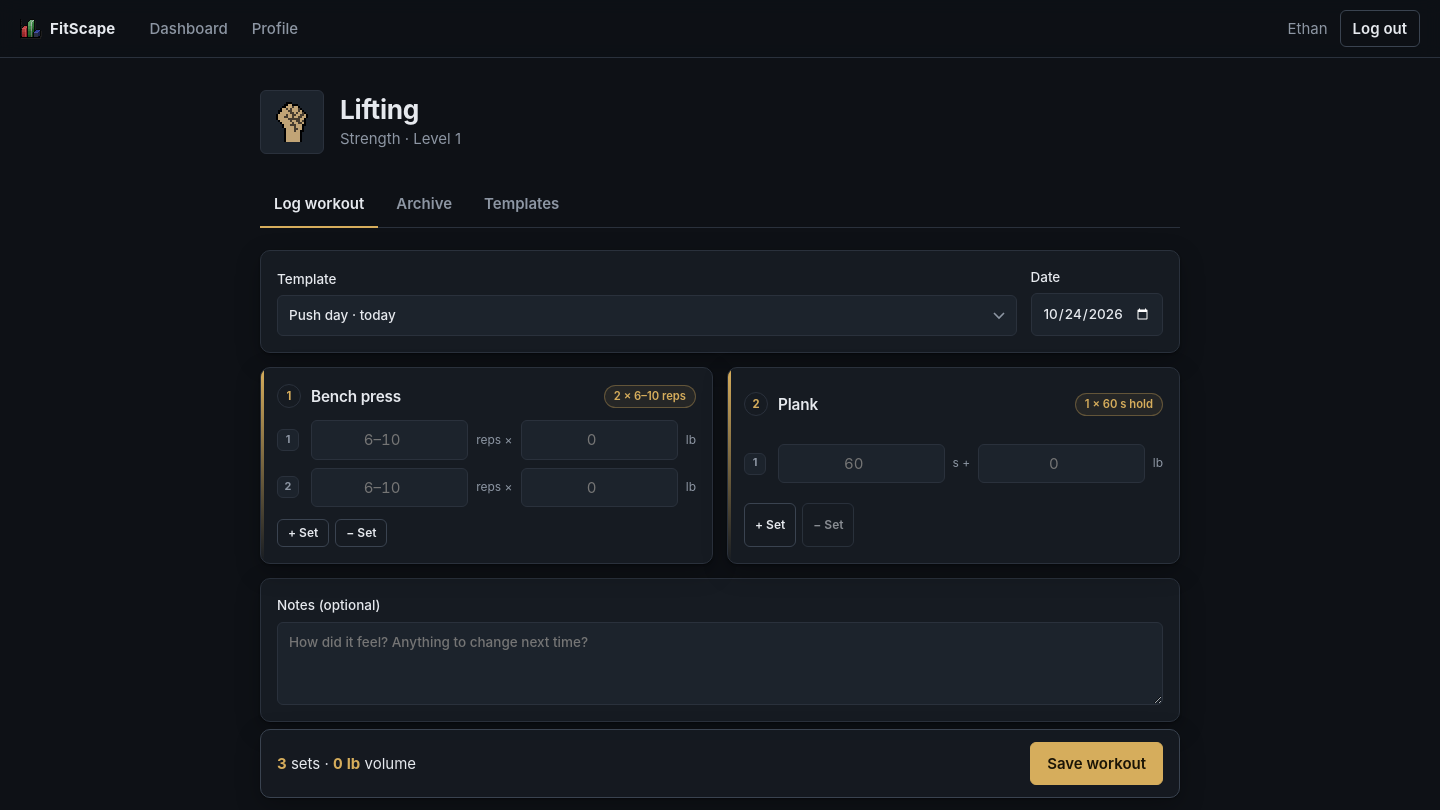
Test: Log workout › preselects today's template, tracks totals live, and saves to the archive
expect the dropdown labelled "Template" shows "Push day · today": met, box [277,295,1016,336]
expect the heading "Bench press" is shown: met, box [311,387,401,406]
Type "10" into the number field named "Bench press set 1 reps" at (390, 440), box [311,420,468,460]
Type "135" into the number field named "Bench press set 1 weight in pounds" at (599, 440), box [520,420,678,460]
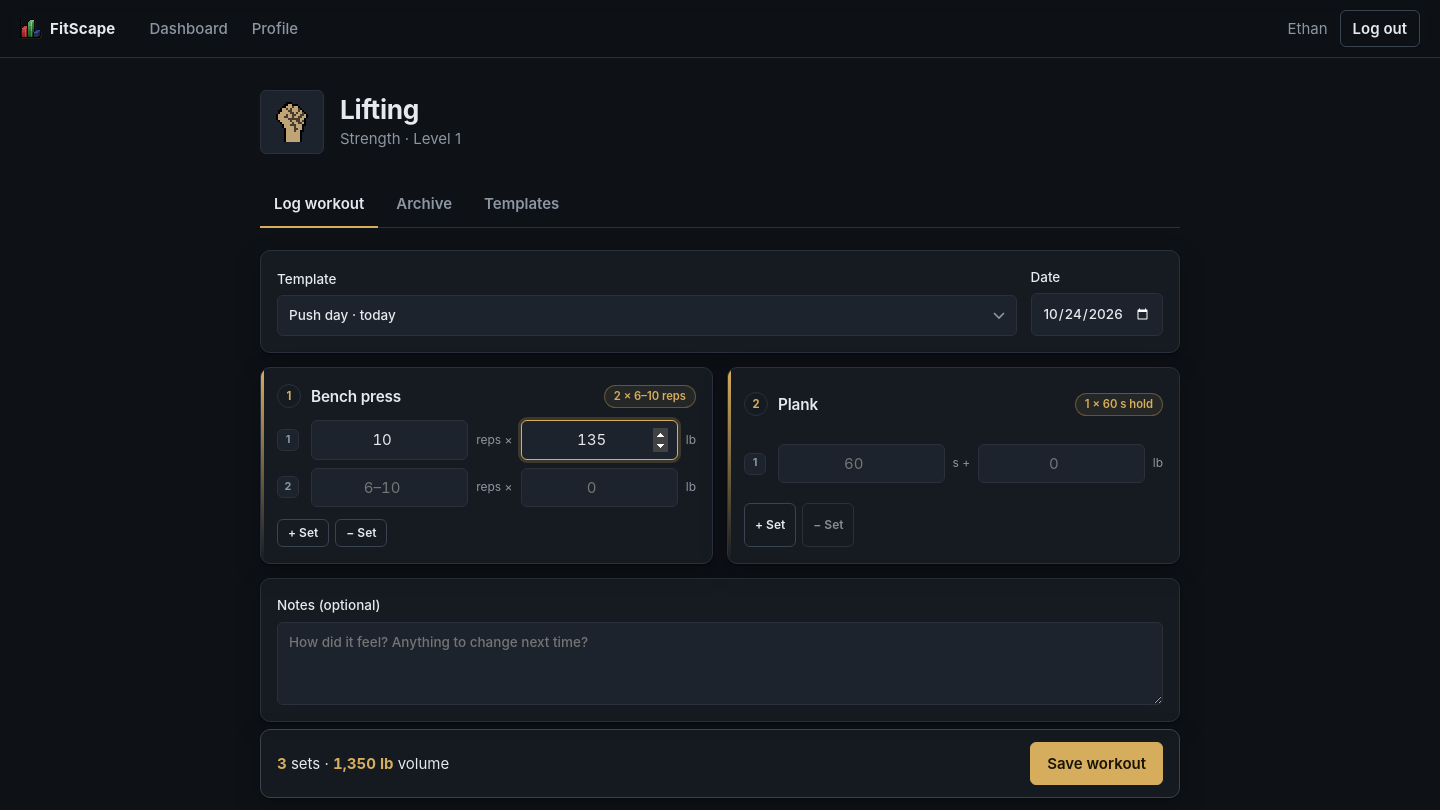
Type "8" into the number field named "Bench press set 2 reps" at (390, 487), box [311,468,468,507]
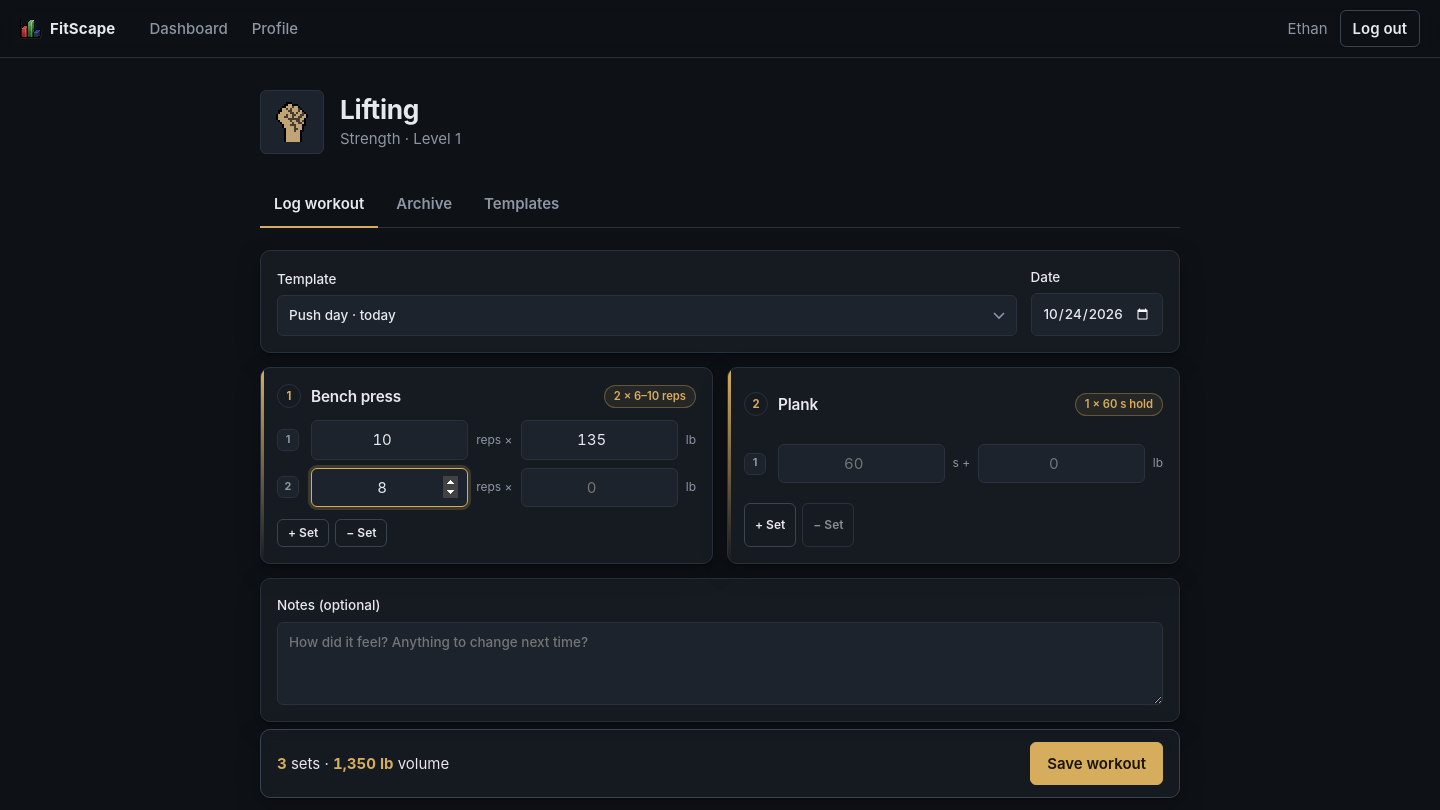
Type "145" into the number field named "Bench press set 2 weight in pounds" at (599, 487), box [520,468,678,507]
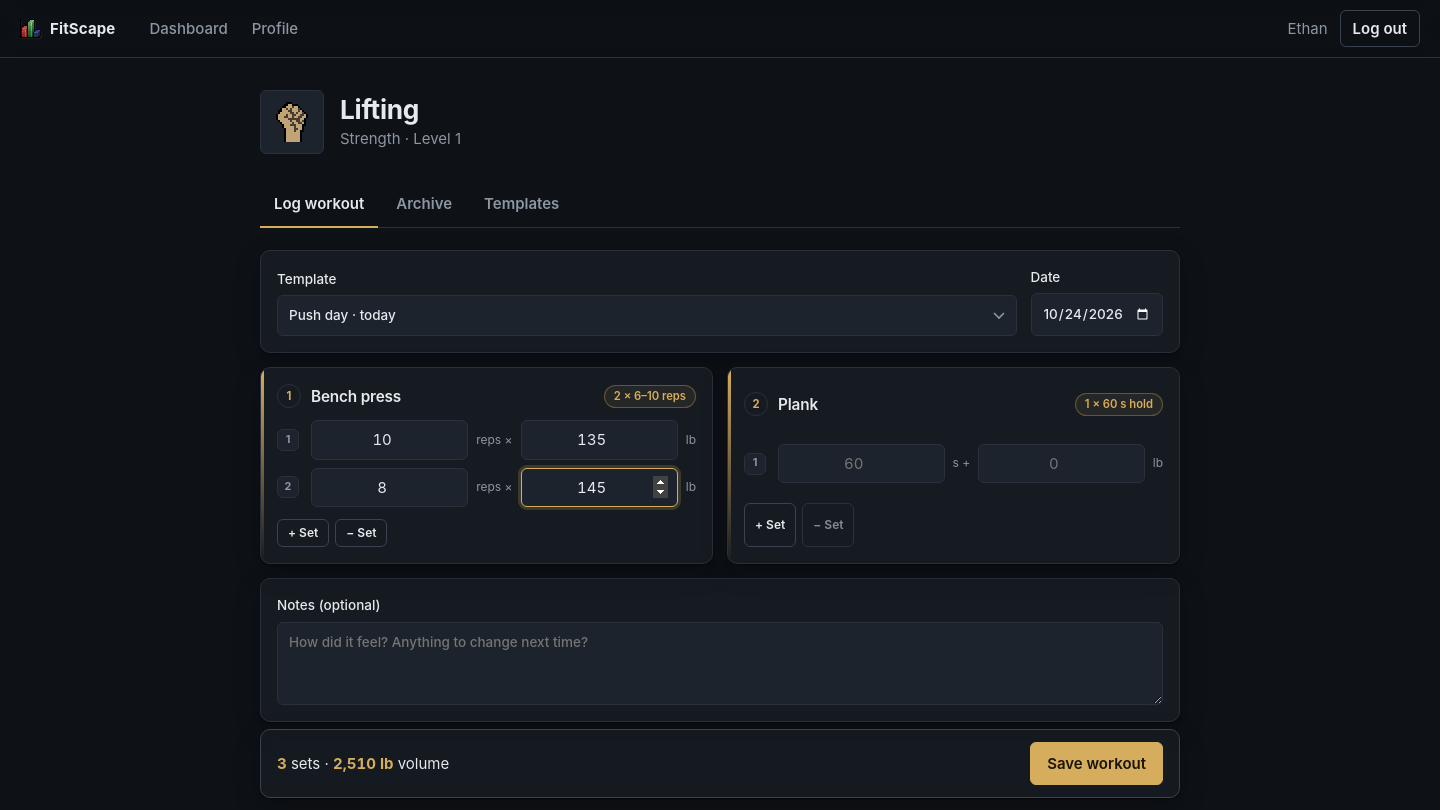
Type "62" into the number field named "Plank set 1 seconds" at (861, 464), box [778,444,944,483]
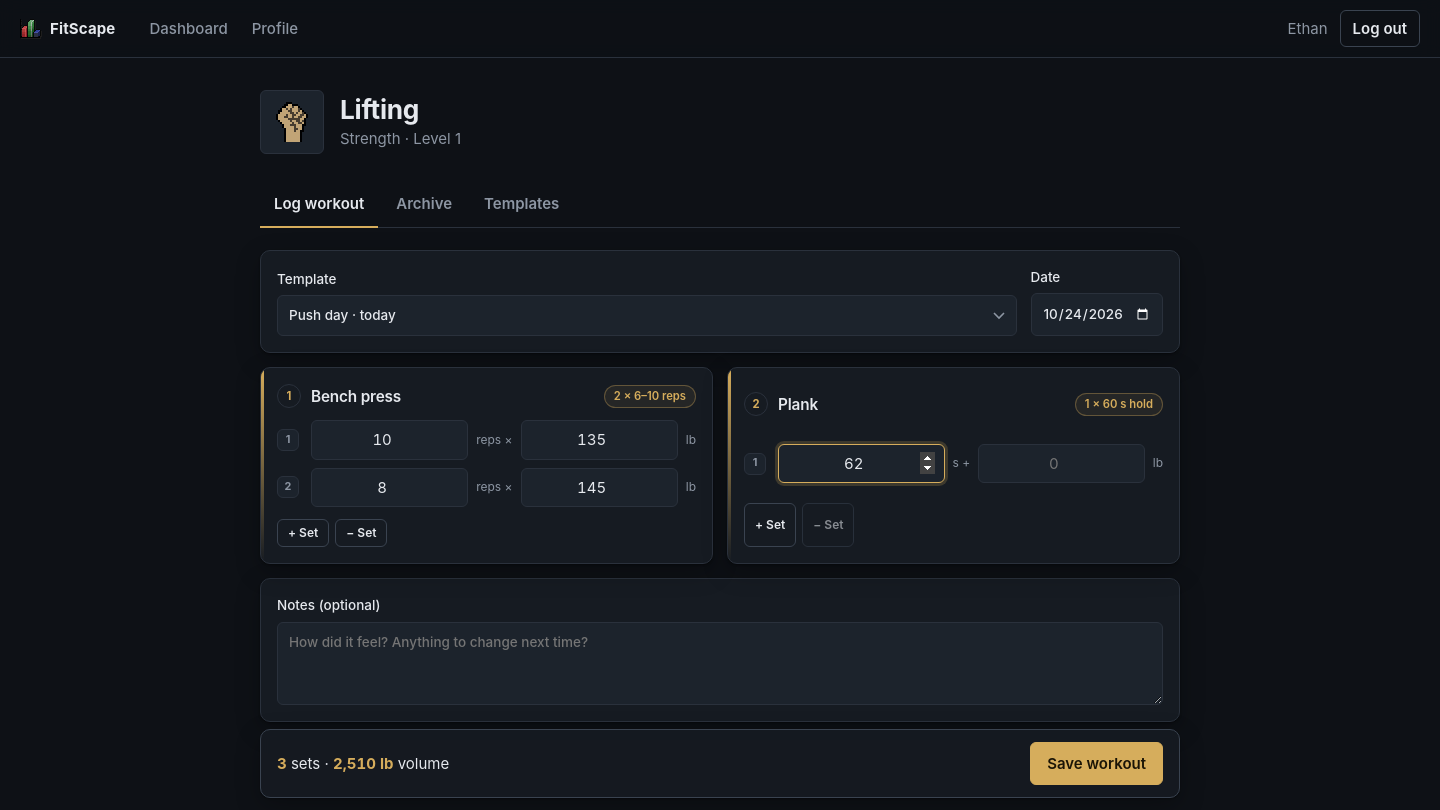
expect the text "2,510 lb" is shown: met, box [333,754,393,773]
Type "Felt strong." into the text box labelled "Notes (optional)" at (720, 664), box [277,622,1163,705]
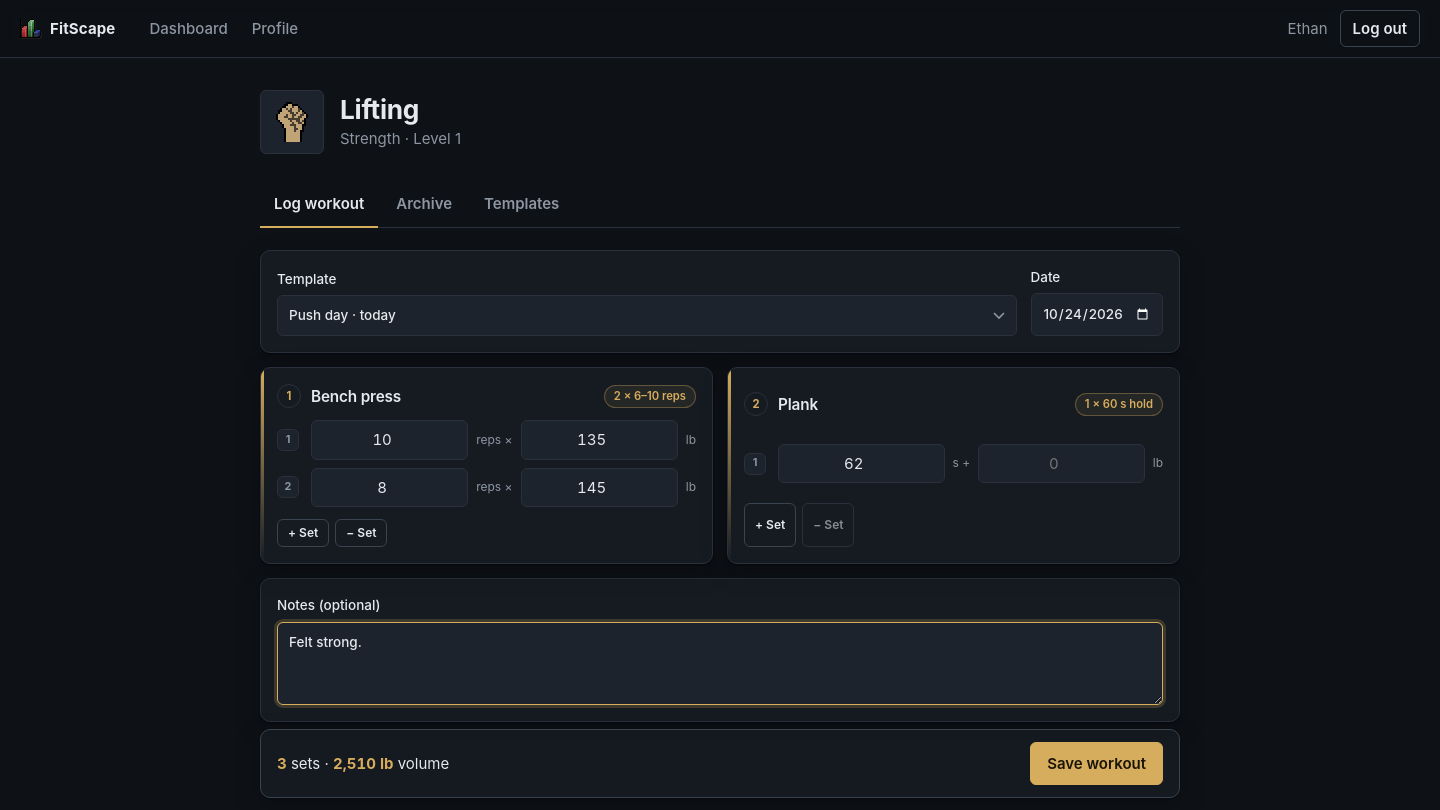
Click the button "Save workout" at (1097, 763), box [1030,742,1163,785]
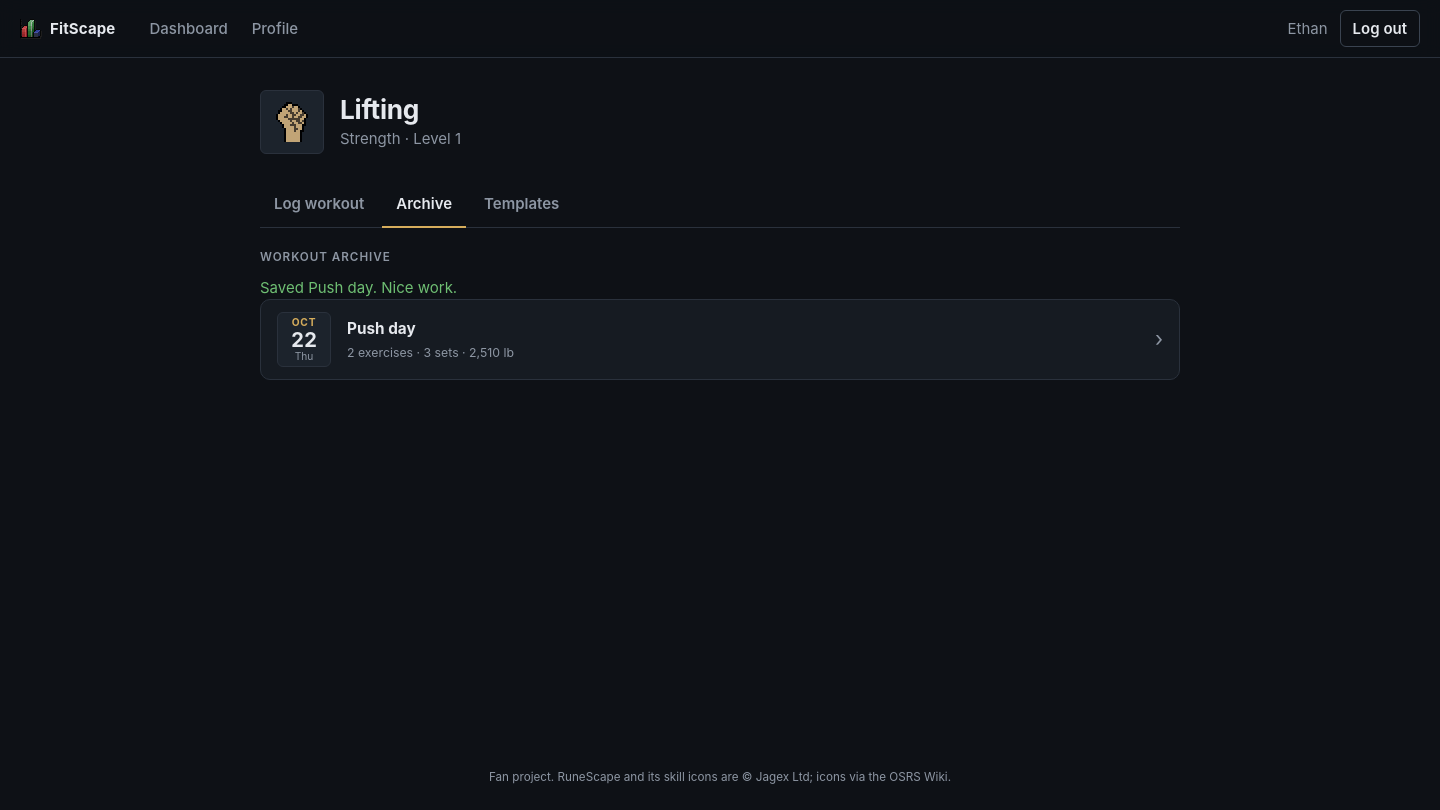
expect the text "Saved Push day. Nice work." is shown: met, box [260,278,457,297]
